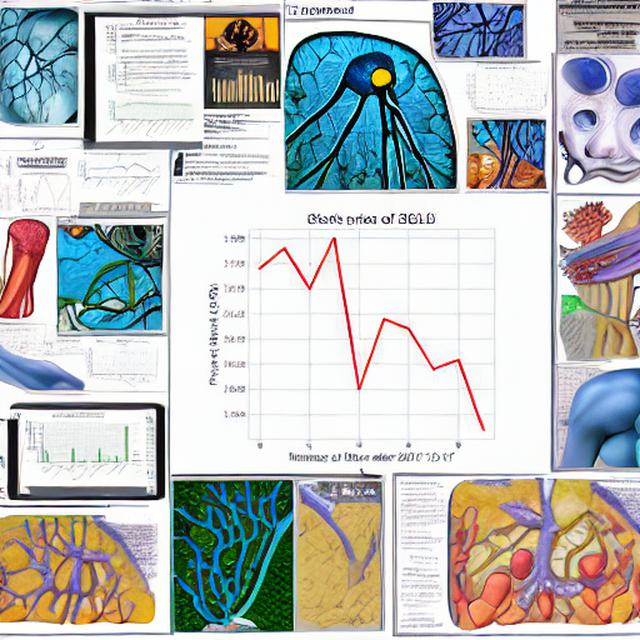Graph: (185, 196, 549, 469), (28, 412, 133, 482), (103, 87, 195, 140), (75, 150, 162, 200), (466, 67, 544, 114), (205, 64, 281, 109), (83, 339, 153, 381), (15, 169, 75, 214)
